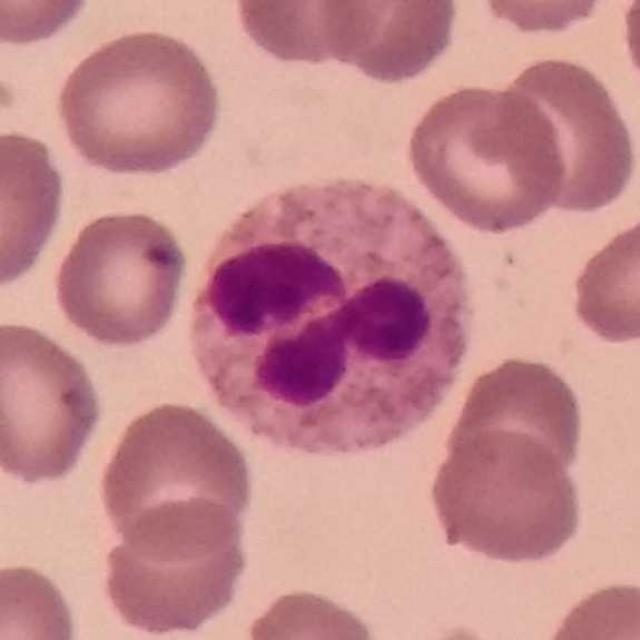Neutrophil: (185, 170, 476, 465)
RBC: (51, 24, 227, 180), (93, 397, 260, 561), (401, 78, 570, 235), (493, 50, 640, 218), (94, 494, 253, 639), (425, 426, 587, 568), (49, 204, 193, 350), (444, 351, 589, 488), (0, 315, 108, 488), (315, 0, 463, 87), (0, 125, 70, 294), (565, 206, 640, 348), (229, 0, 383, 69), (240, 582, 388, 640), (0, 557, 82, 640), (537, 575, 640, 639), (466, 0, 624, 38), (0, 0, 95, 50), (380, 620, 533, 640), (616, 1, 640, 109)
